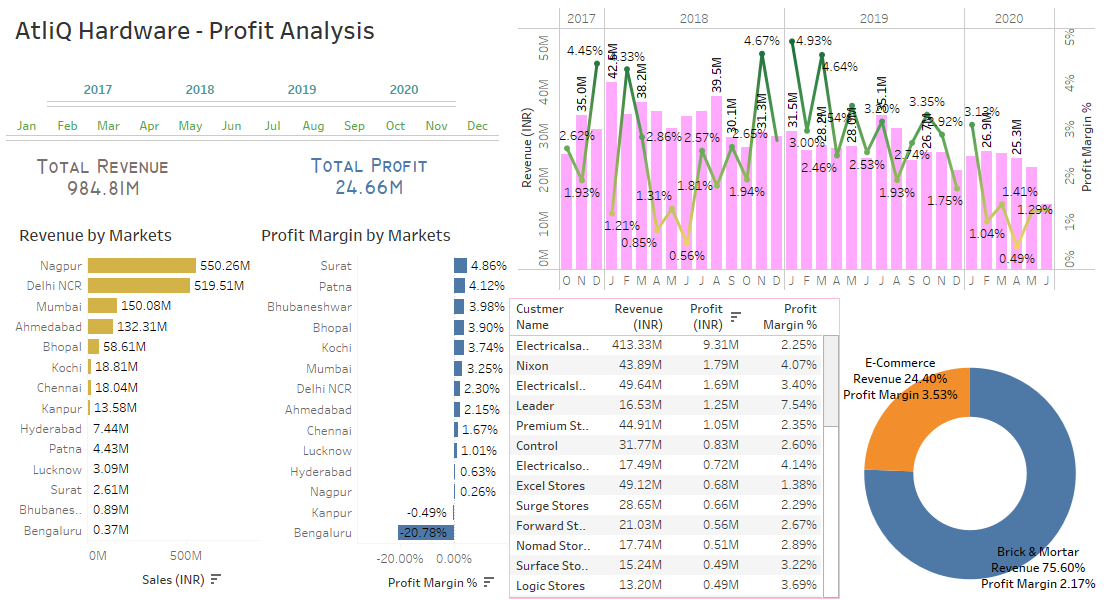

The page's visual inventory and layout, read from the dashboard file:
{"tool":"tableau","page":{"name":"AtliQ_Profit_Dashboard","canvas":[1100,600],"ordinal":0},"visuals":[{"type":"title","box":[8,8,1084,43]},{"type":"worksheet","title":"Sales vs Profit %","mark":"Bar","rows":["Calculation_749004940204163072","Calculation_885520304392323072"],"cols":["order_date","order_date"],"box":[518,8.4,578,283.2]},{"type":"worksheet","title":"Year Filter","mark":"Automatic","cols":["date"],"box":[47,77,426,32]},{"type":"worksheet","title":"Month Filter","mark":"Automatic","cols":["date"],"box":[6,115,502,34]},{"type":"worksheet","title":"Ravenue","mark":"Automatic","box":[17,141,191,73]},{"type":"worksheet","title":"Profit","mark":"Automatic","box":[299,154,143,61]},{"type":"worksheet","title":"Ravenue by Market","mark":"Automatic","rows":["markets_name"],"cols":["Calculation_749004940204163072"],"box":[15,218,245,377]},{"type":"worksheet","title":"Profit by Market","mark":"Automatic","rows":["markets_name"],"cols":["Calculation_885520304392323072"],"box":[257,218,251,380]},{"type":"worksheet","title":"Customer Analysis","mark":"Automatic","rows":["custmer_name"],"box":[509,297.6,331,301.2]},{"type":"worksheet","title":"Customer Type","mark":"Pie","rows":["Calculation_1151514157662695424","Calculation_1151514157662695424"],"box":[843,352,255,243]}]}

Visuals, with their boxes in screenshot pixels (x1, y1, x2, y2), scaled from the page's 1100x600 canvas onto the 1112x600 screenshot:
title: l=8, t=8, r=1104, b=51
"Sales vs Profit %" worksheet (Bar marks): l=524, t=8, r=1108, b=292
"Year Filter" worksheet: l=48, t=77, r=478, b=109
"Month Filter" worksheet: l=6, t=115, r=514, b=149
"Ravenue" worksheet: l=17, t=141, r=210, b=214
"Profit" worksheet: l=302, t=154, r=447, b=215
"Ravenue by Market" worksheet: l=15, t=218, r=263, b=595
"Profit by Market" worksheet: l=260, t=218, r=514, b=598
"Customer Analysis" worksheet: l=515, t=298, r=849, b=599
"Customer Type" worksheet (Pie marks): l=852, t=352, r=1110, b=595
